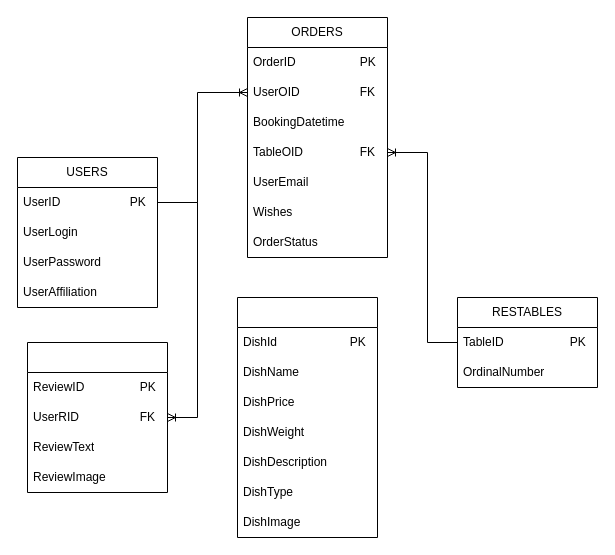
Image size: 615x555. Some labels were removed from this diagram. Here are the shapes that lost their labels. From the top down, the box of each, then its label:
(26, 342, 168, 492): REVIEWS
(236, 296, 378, 538): MENU
